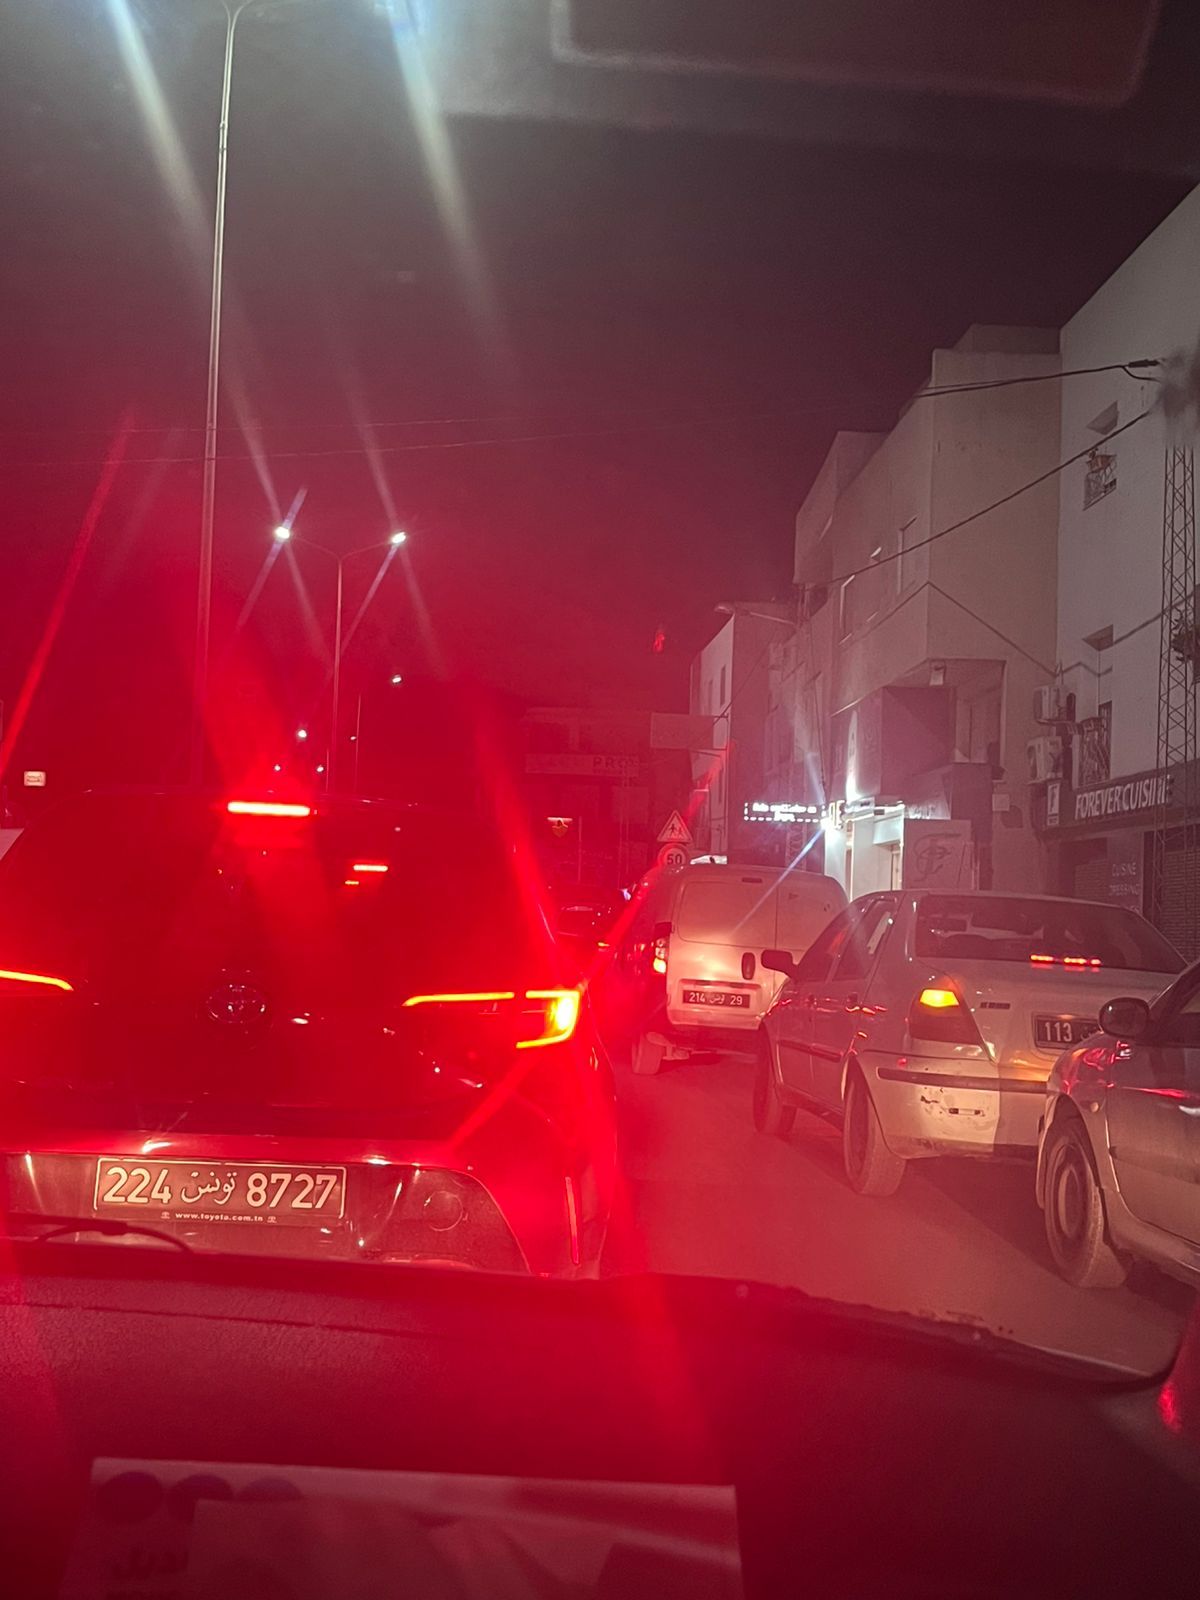SpeedLimit50: (657, 843, 691, 866)
